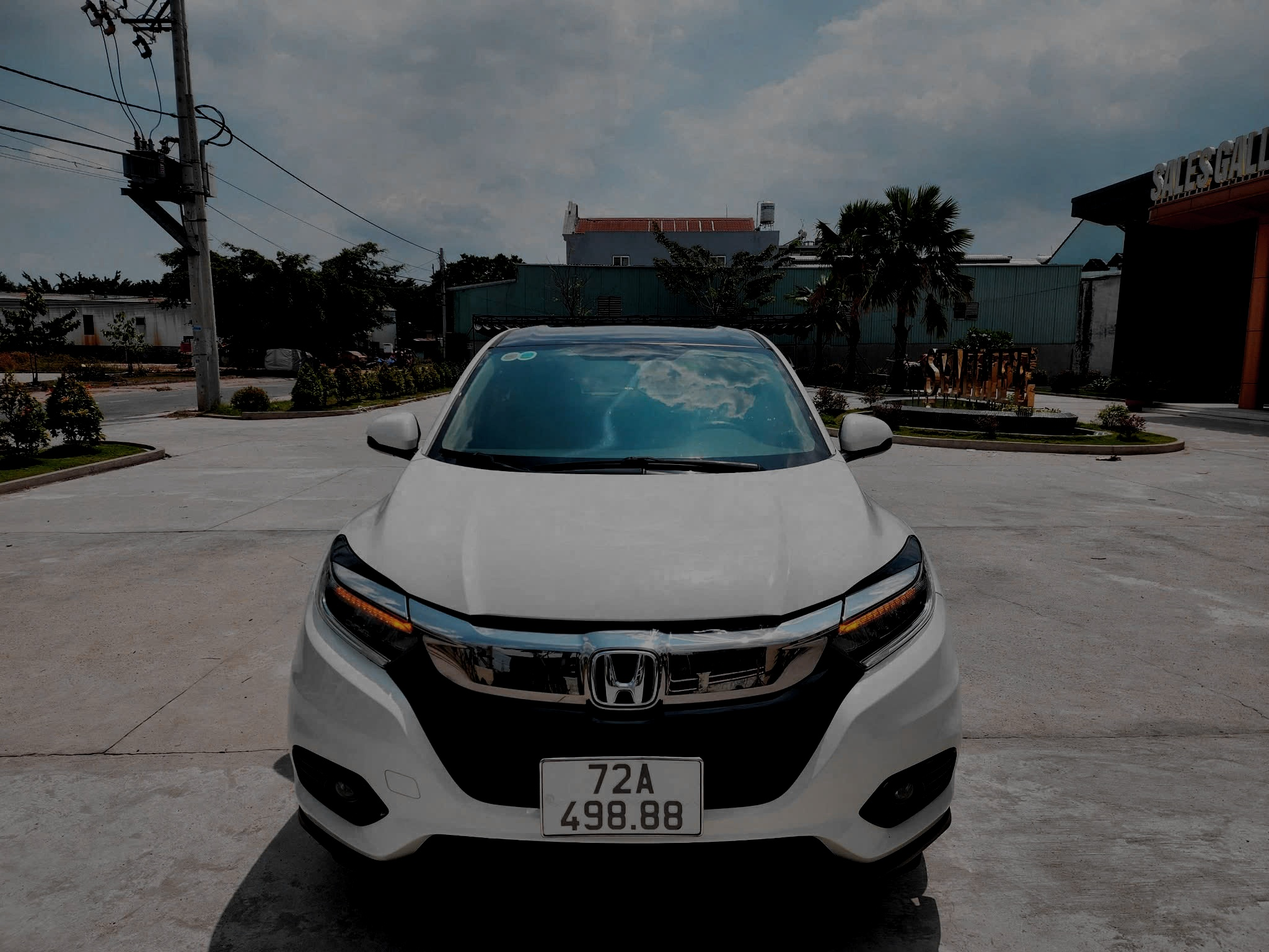Bien-so: (466, 700, 652, 823)
